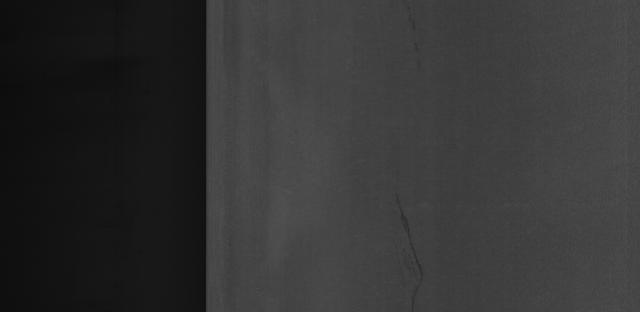water_spot: (390, 173, 437, 305)
